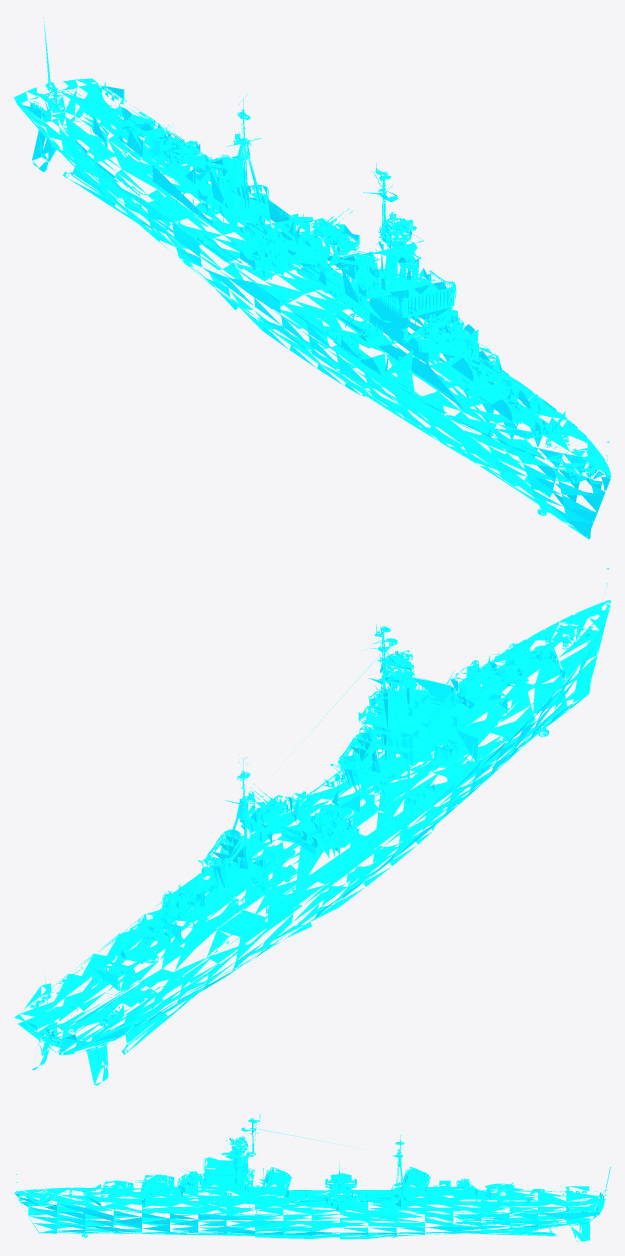
The model's file is PRSD210.glb.
3 views of the same model, one above another, from view 1: azimuth 30°, elevation 25°; view 2: azimuth 150°, elevation 25°; view 3: azimuth 270°, elevation 25° (orthographic). The views are drawn at different scales.
Visible parts, largest first — view 1: hull, turret; view 2: hull, turret; view 3: hull, turret.
Boxes of the visible parts, x1=… form: hull: x1=14, y1=17, x2=610, y2=539; turret: x1=119, y1=118, x2=540, y2=423; hull: x1=14, y1=568, x2=610, y2=1085; turret: x1=120, y1=643, x2=540, y2=962; hull: x1=14, y1=1114, x2=610, y2=1241; turret: x1=100, y1=1163, x2=523, y2=1202.
Size of the model in its own units: 0.9726 by 2.09 by 9.14.
